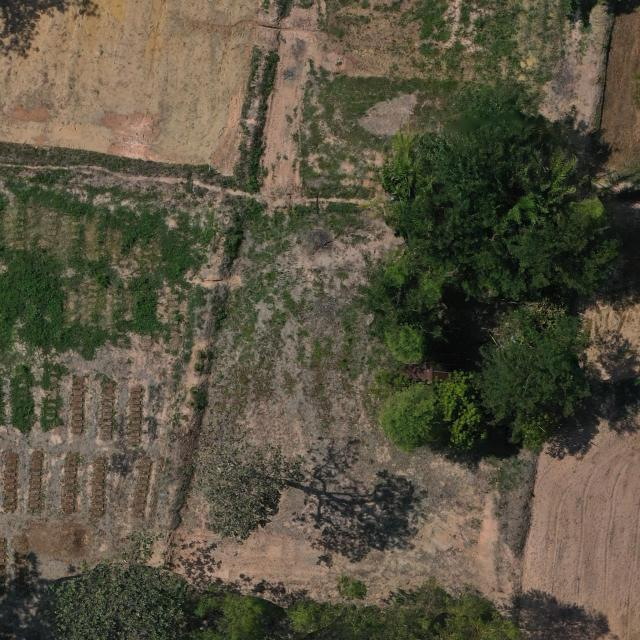Tree: (377, 84, 624, 306), (473, 315, 595, 457), (46, 529, 196, 640), (182, 420, 307, 542), (353, 247, 463, 366), (365, 586, 526, 640), (284, 574, 373, 640), (434, 367, 489, 451), (380, 381, 441, 456), (215, 589, 272, 640), (370, 370, 408, 389)
